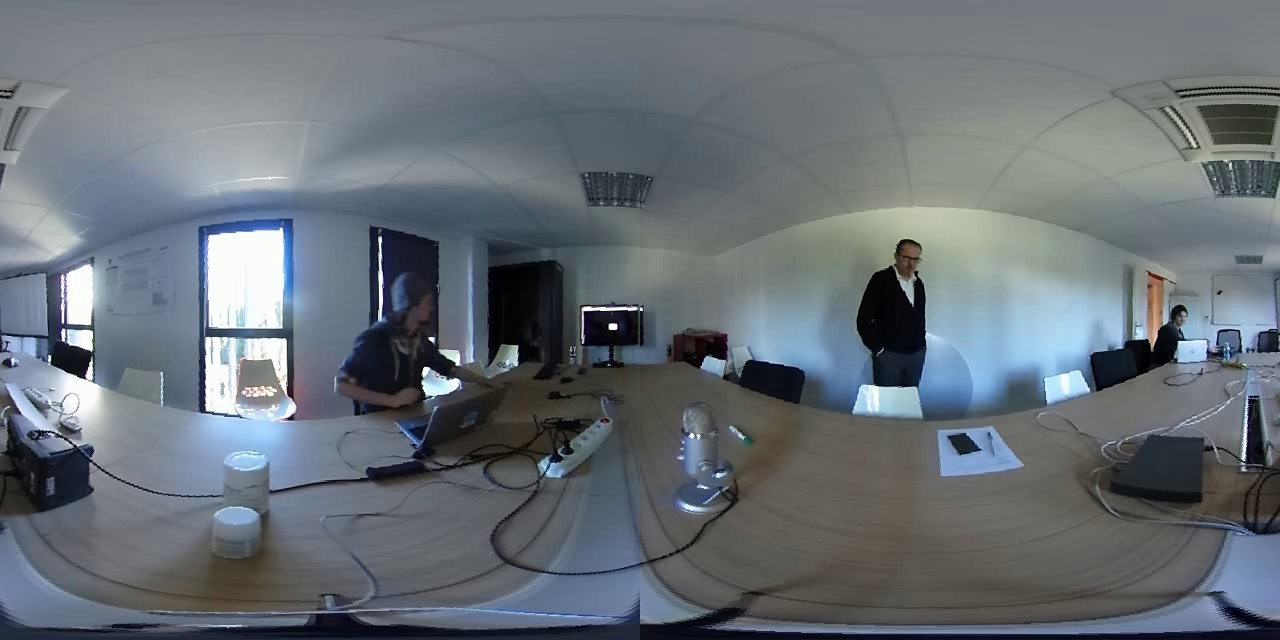person: (328, 271, 476, 404), (853, 231, 944, 388), (1152, 292, 1201, 353)
